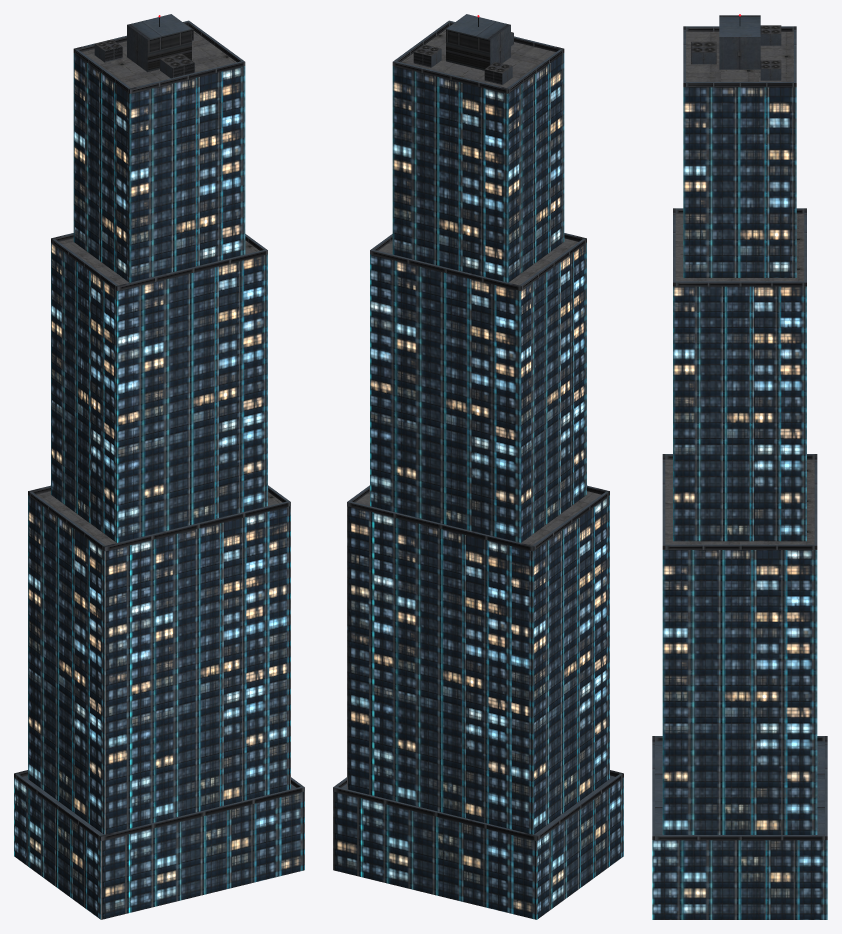
Rendered from commercial-stepped-tower-01.glb.
The picture shows the model from 3 angles, left to right: view 1: azimuth 30°, elevation 25°; view 2: azimuth 150°, elevation 25°; view 3: azimuth 270°, elevation 25°; orthographic projection.
Parts seen in each view (by area): view 1: commercial-stepped-tower-01; view 2: commercial-stepped-tower-01; view 3: commercial-stepped-tower-01.
Boxes of the visible parts, x1,y1,x2,y2 form: commercial-stepped-tower-01: [14, 14, 304, 919]; commercial-stepped-tower-01: [333, 14, 623, 919]; commercial-stepped-tower-01: [652, 14, 827, 919].
Size of the model in its own units: 46 by 183 by 34.
Materials: 1 (1 with a texture image).
